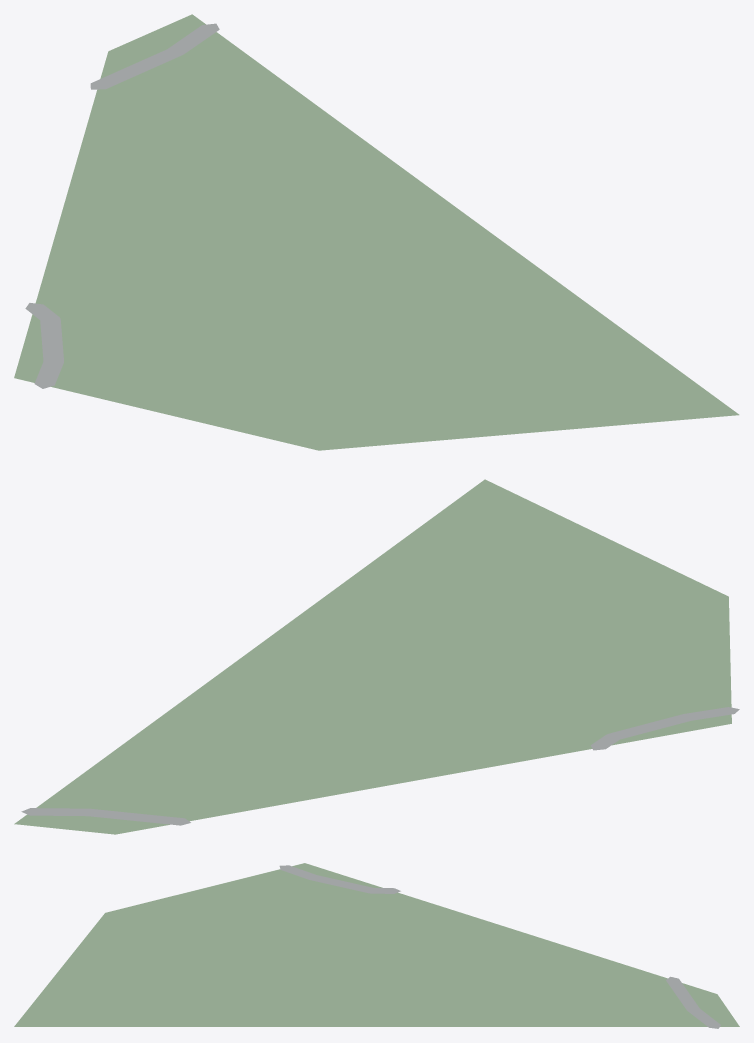
File: -21_32-known-fine.glb
The picture shows the model from 3 angles, top to bottom: view 1: azimuth 30°, elevation 25°; view 2: azimuth 150°, elevation 25°; view 3: azimuth 270°, elevation 25°; orthographic projection. The views are drawn at different scales.
Bounding box in the file's own units: 86.35 × 0.1 × 159.
